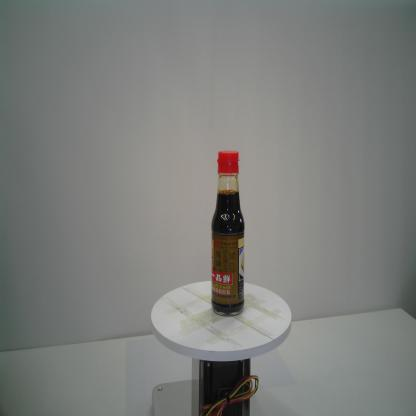Seasoner: (211, 147, 246, 315)
